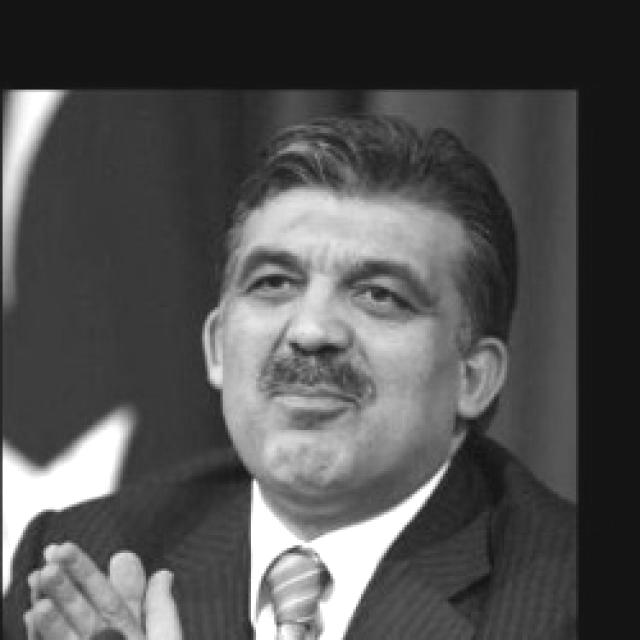real: (218, 182, 460, 504), (241, 255, 432, 325)
